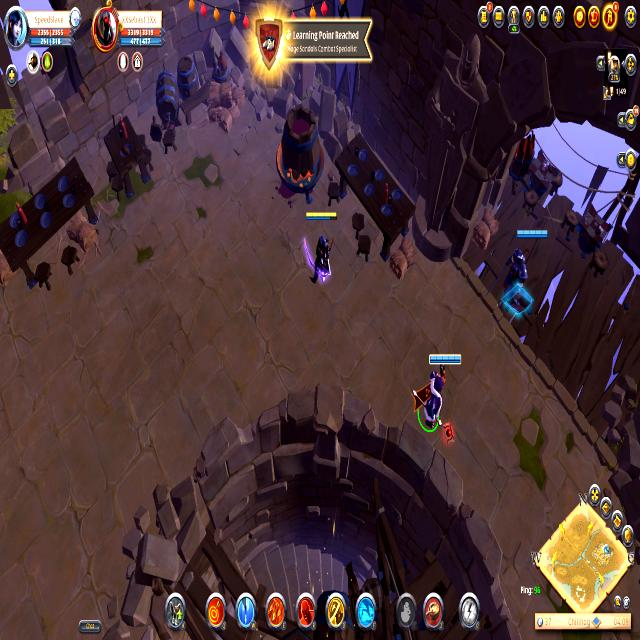red: (495, 224, 552, 321), (411, 347, 464, 442), (302, 208, 339, 289)
